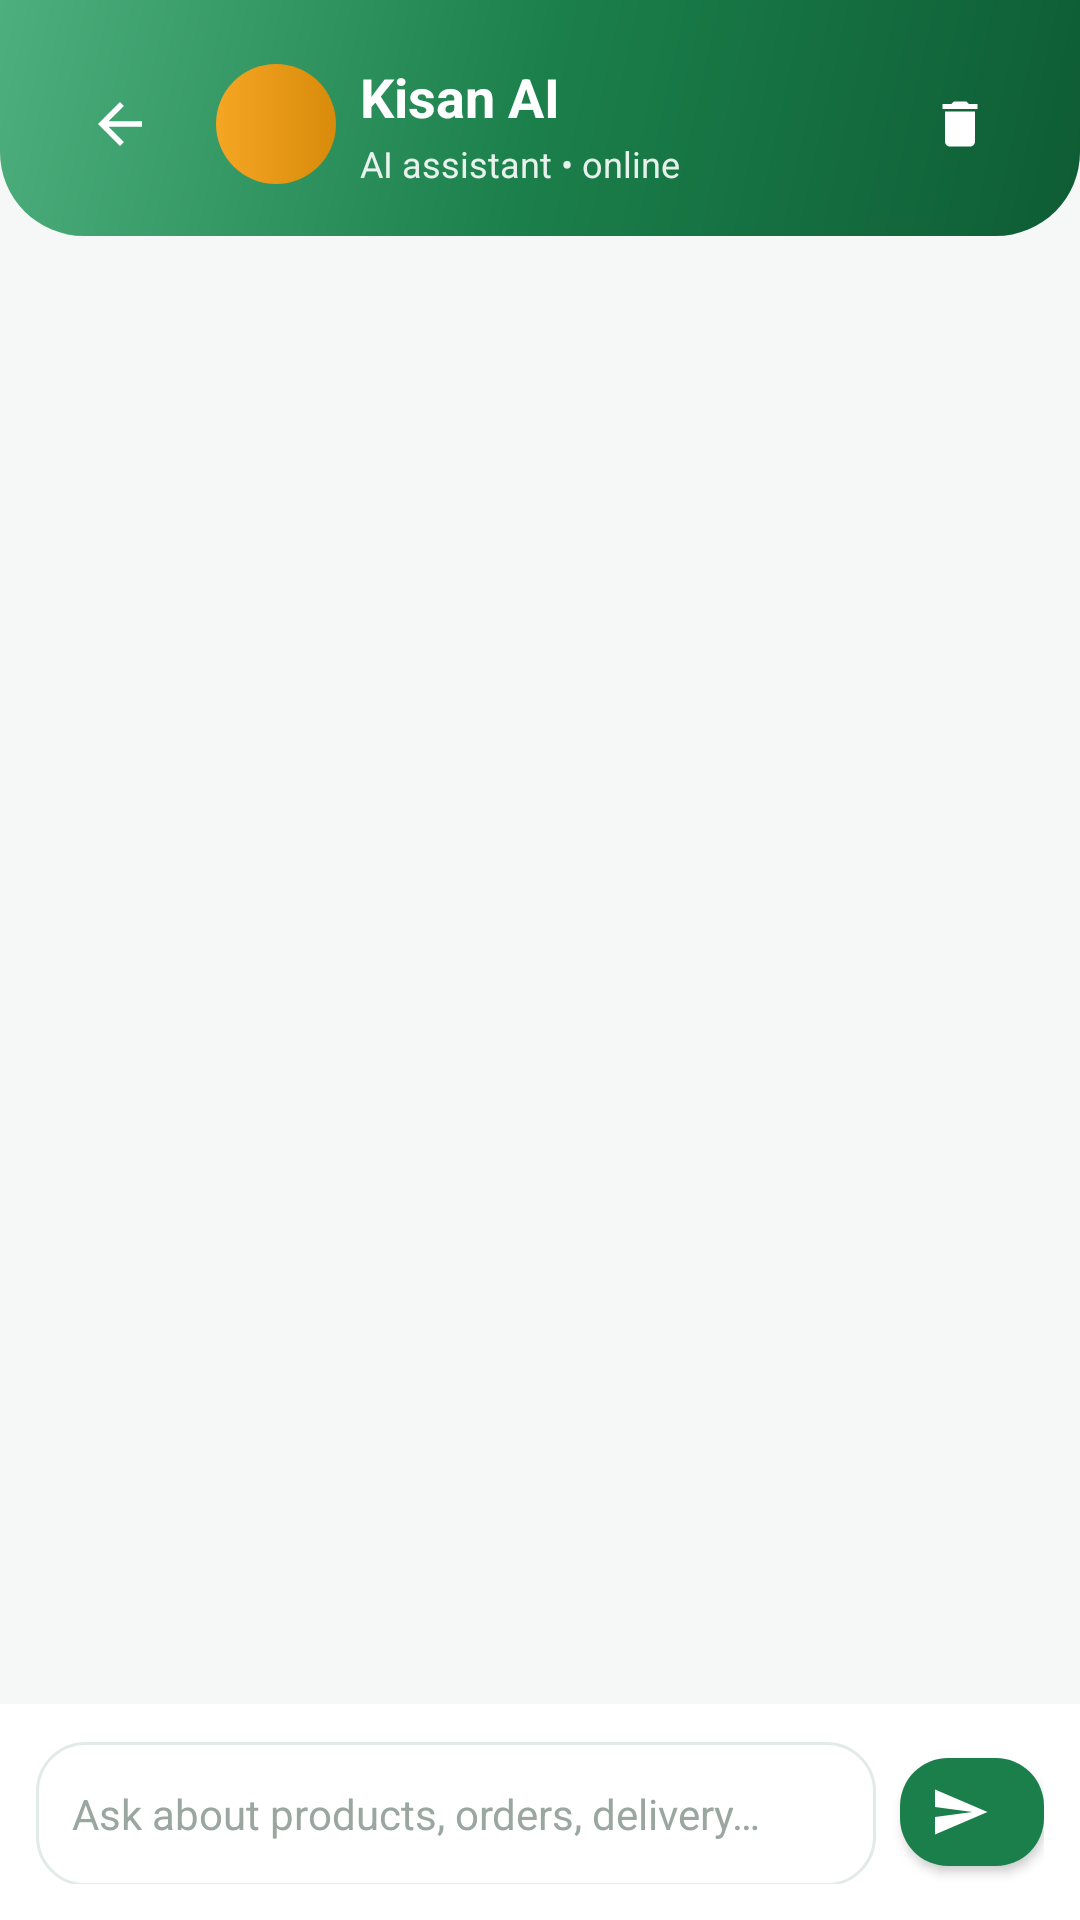

Icons on this 1080 × 1920 Android screen, each with its box as detection(x1, y1, x2, y2):
Navigate back: detection(98, 102, 142, 146)
send: detection(900, 1758, 1044, 1872)
